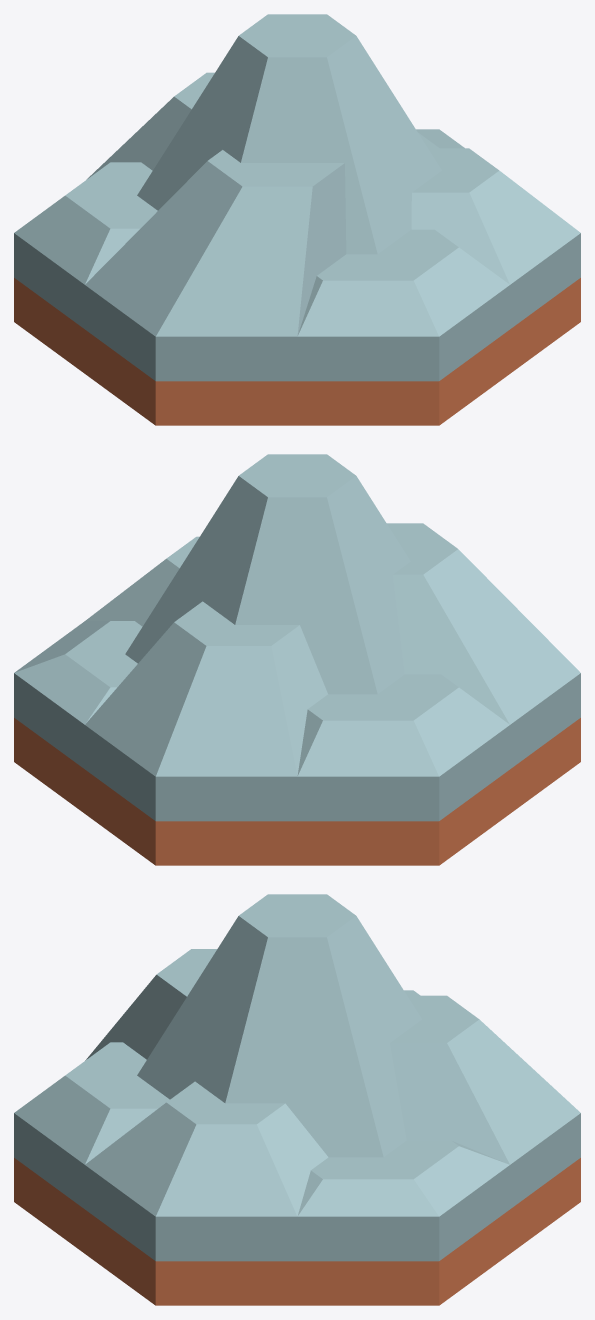
The model's file is stone_hill.dae.
The picture shows the model from 3 angles, top to bottom: view 1: azimuth 30°, elevation 25°; view 2: azimuth 150°, elevation 25°; view 3: azimuth 270°, elevation 25°; orthographic projection.
Parts seen in each view (by area): view 1: rockLarge, stone_hill; view 2: rockLarge, stone_hill; view 3: rockLarge, stone_hill.
Part boxes in pixels (bbox=[...]): rockLarge: bbox=[14, 14, 580, 336]; stone_hill: bbox=[14, 233, 580, 425]; rockLarge: bbox=[14, 454, 580, 776]; stone_hill: bbox=[14, 673, 580, 865]; rockLarge: bbox=[14, 894, 580, 1216]; stone_hill: bbox=[14, 1113, 580, 1305].
Bounding box in the file's own units: 1 × 0.6432 × 1.15.
